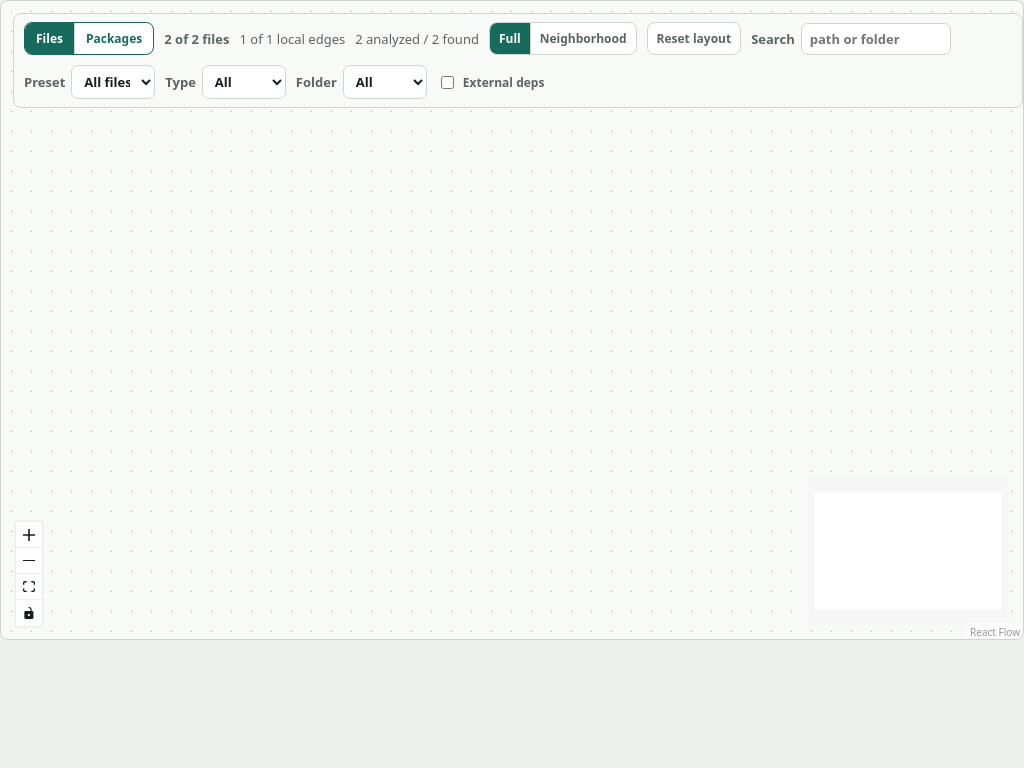
Test case: GraphCanvas › filters graph nodes by path query
This screenshot has width=1024, height=768.
Type "utils" into the field named "Filter graph by path" at coordinates (876, 38), box x1=801 y1=22 x2=951 y2=54
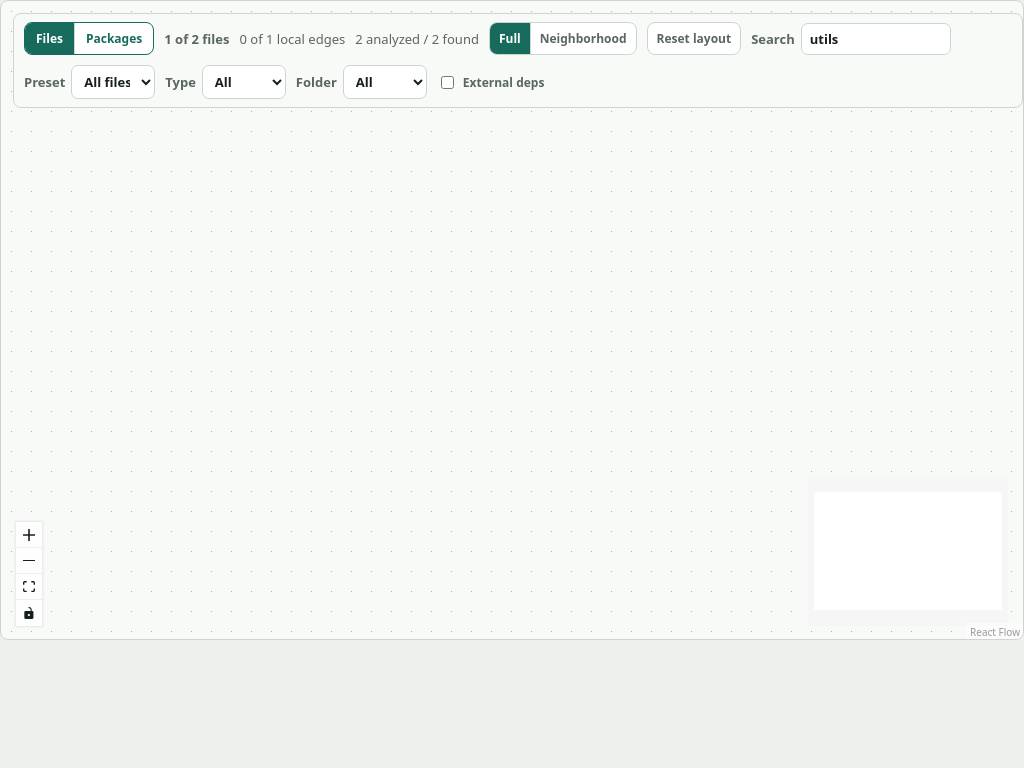
Check: the text "1 of 2 files" is shown, box x1=164 y1=30 x2=230 y2=48
